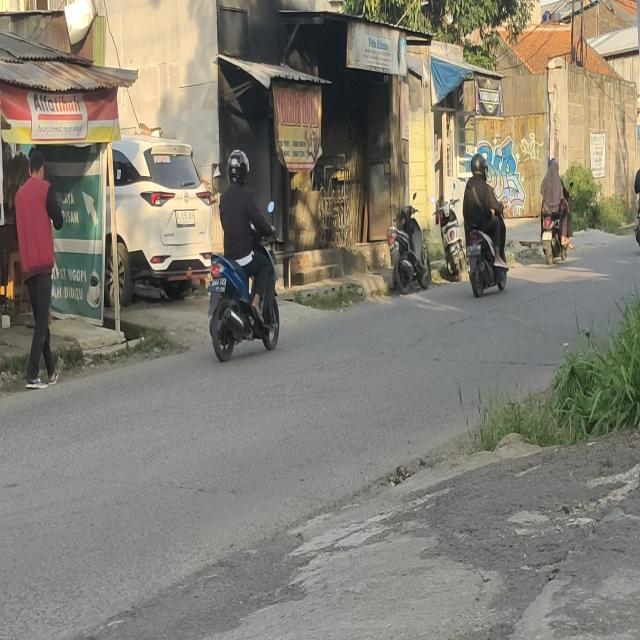helmet: (227, 150, 249, 184), (470, 154, 484, 182)
no-helmet: (548, 157, 560, 180)
